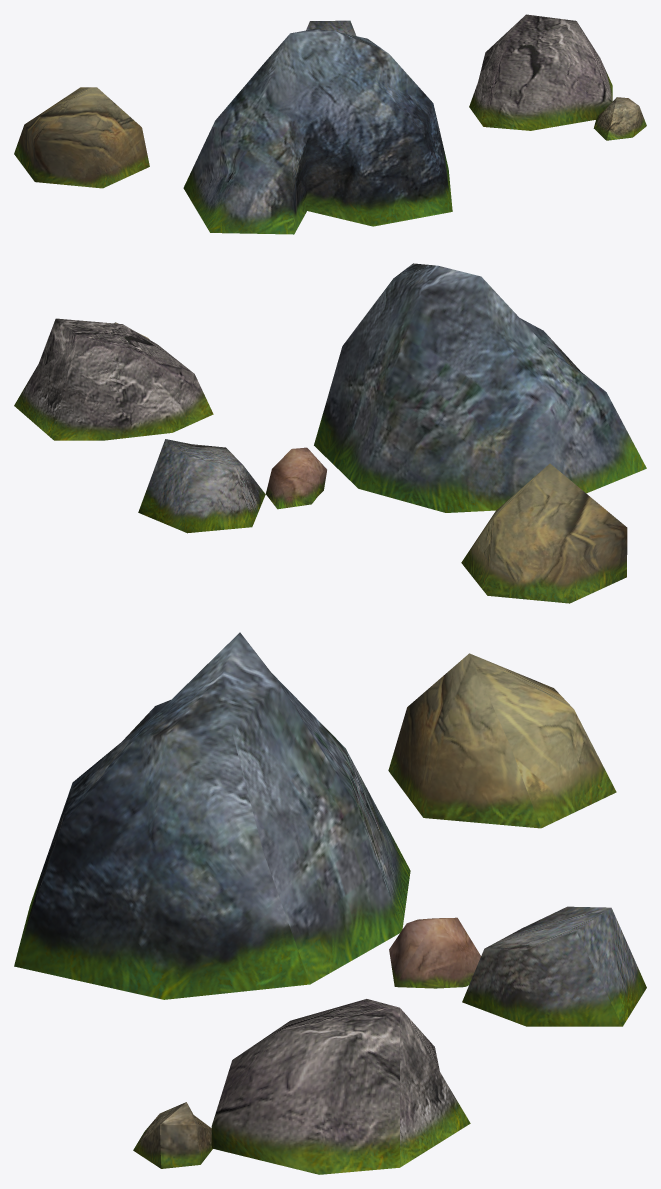
The model's file is stn.FBX.
3 renders of one model, top to bottom at view 1: azimuth 30°, elevation 25°; view 2: azimuth 150°, elevation 25°; view 3: azimuth 270°, elevation 25°, orthographic. The views are drawn at different scales.
Visible parts, largest first — view 1: Object02, Object04, Object01, default, Object03; view 2: Object02, Object04, Object01, Object03, Object05; view 3: Object02, Object04, Object01, Object03, Object05, default.
Boxes of the visible parts, x1,y1,x2,y2 form: Object02: (183,29,452,234); Object04: (469,14,612,130); Object01: (14,87,149,188); default: (593,97,646,140); Object03: (306,20,356,35); Object02: (314,263,646,512); Object04: (14,318,213,440); Object01: (461,463,627,603); Object03: (138,439,265,533); Object05: (266,447,326,509); Object02: (14,632,410,999); Object04: (211,999,470,1174); Object01: (388,653,616,828); Object03: (462,906,646,1026); Object05: (389,917,480,988); default: (133,1102,212,1168).
Size of the model in its own units: 166 by 46.62 by 101.
